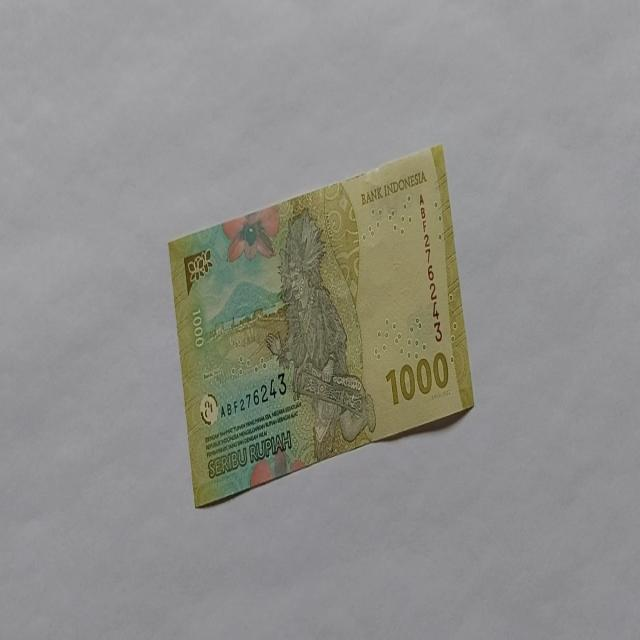seribu rupiah kertas: (167, 142, 475, 508)
